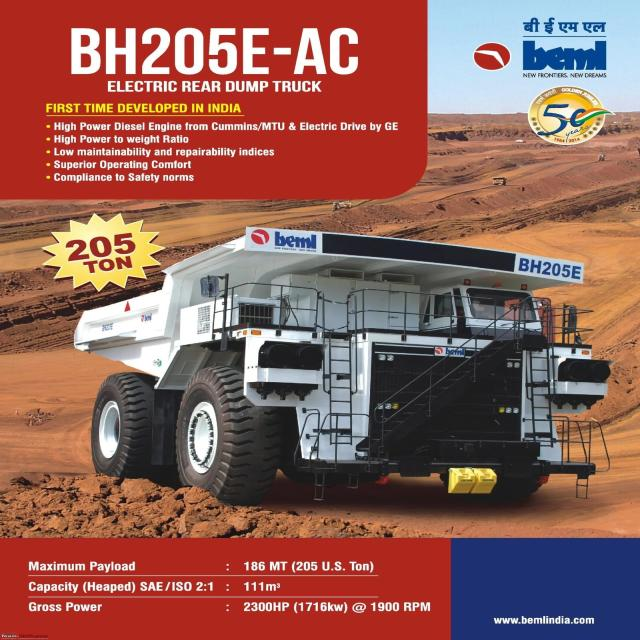dump_truck: (51, 233, 605, 514)
